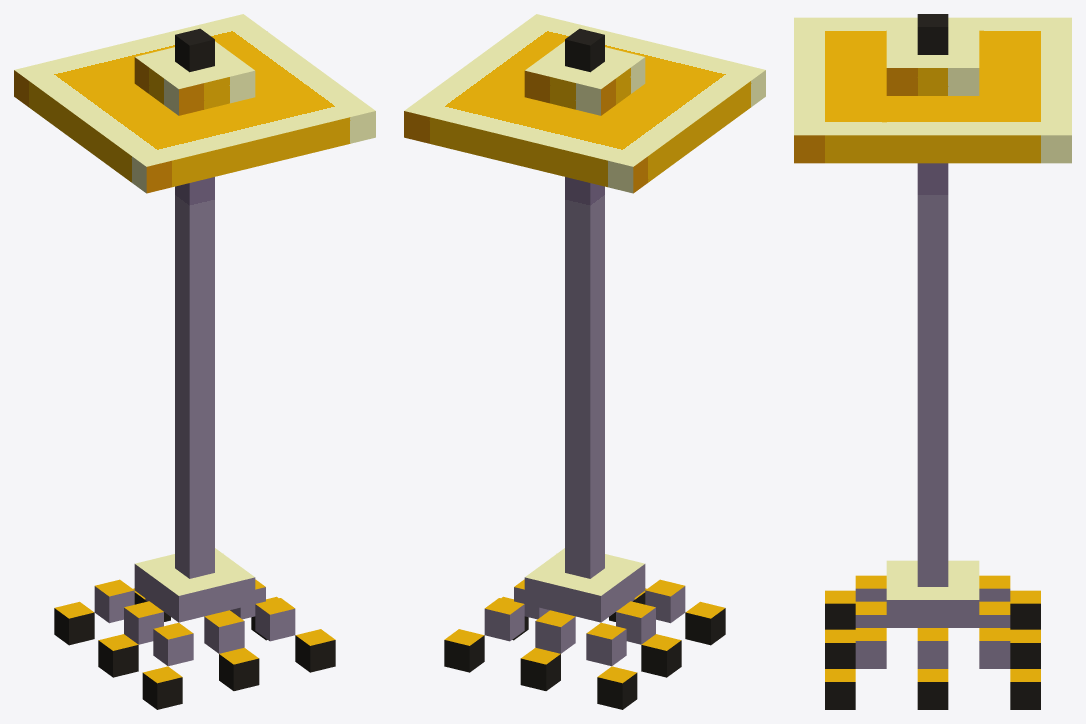
File: int_crashao.fezao.glb
3 views of the same model, side by side, from view 1: azimuth 30°, elevation 25°; view 2: azimuth 150°, elevation 25°; view 3: azimuth 270°, elevation 25° (orthographic). The views are drawn at different scales.
Visible parts, largest first — view 1: INT_CRASHAO; view 2: INT_CRASHAO; view 3: INT_CRASHAO.
Part boxes in pixels (box(x1,y1,x2,y2)): INT_CRASHAO: box(14, 14, 375, 709); INT_CRASHAO: box(404, 14, 765, 709); INT_CRASHAO: box(794, 14, 1071, 709).
Size of the model in its own units: 0.5625 by 1.44 by 0.5625.
Materials: 1 (1 with a texture image).
